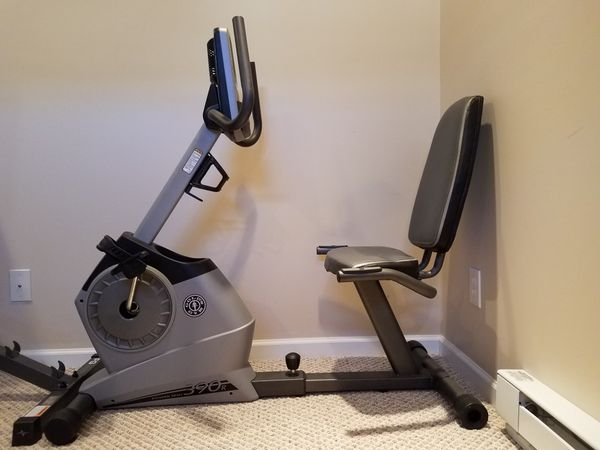gym_bike: (27, 11, 496, 422)
